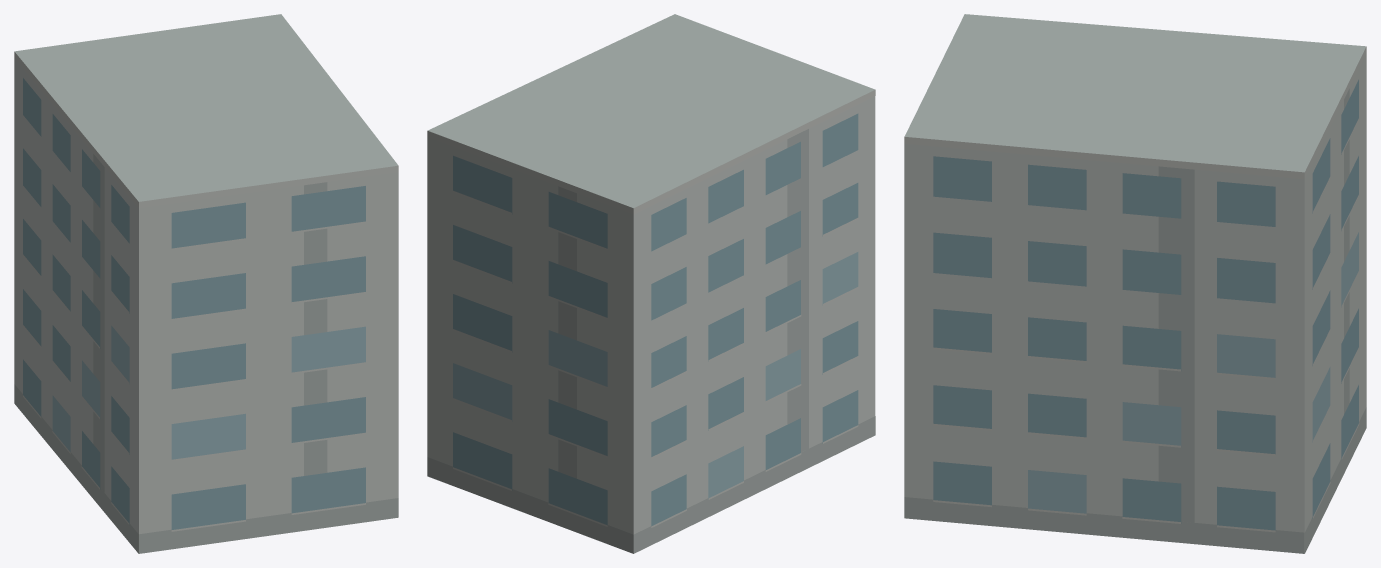
The model's file is survey-upis-33028604.glb.
3 views of the same model, side by side, from view 1: azimuth 30°, elevation 25°; view 2: azimuth 150°, elevation 25°; view 3: azimuth 270°, elevation 25° (orthographic). The views are drawn at different scales.
Parts seen in each view (by area): view 1: survey-upis-33028604.tmp; view 2: survey-upis-33028604.tmp; view 3: survey-upis-33028604.tmp.
Part boxes in pixels (box(x1,y1,x2,y2)): survey-upis-33028604.tmp: box(14, 14, 398, 553); survey-upis-33028604.tmp: box(427, 14, 875, 553); survey-upis-33028604.tmp: box(904, 14, 1366, 553).
Bounding box in the file's own units: 11.76 × 13.2 × 14.5.
